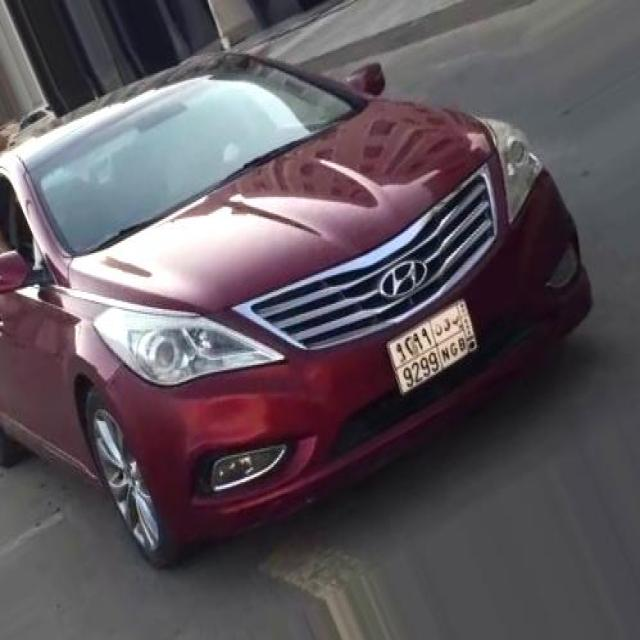Car-plate: (379, 283, 485, 411)
